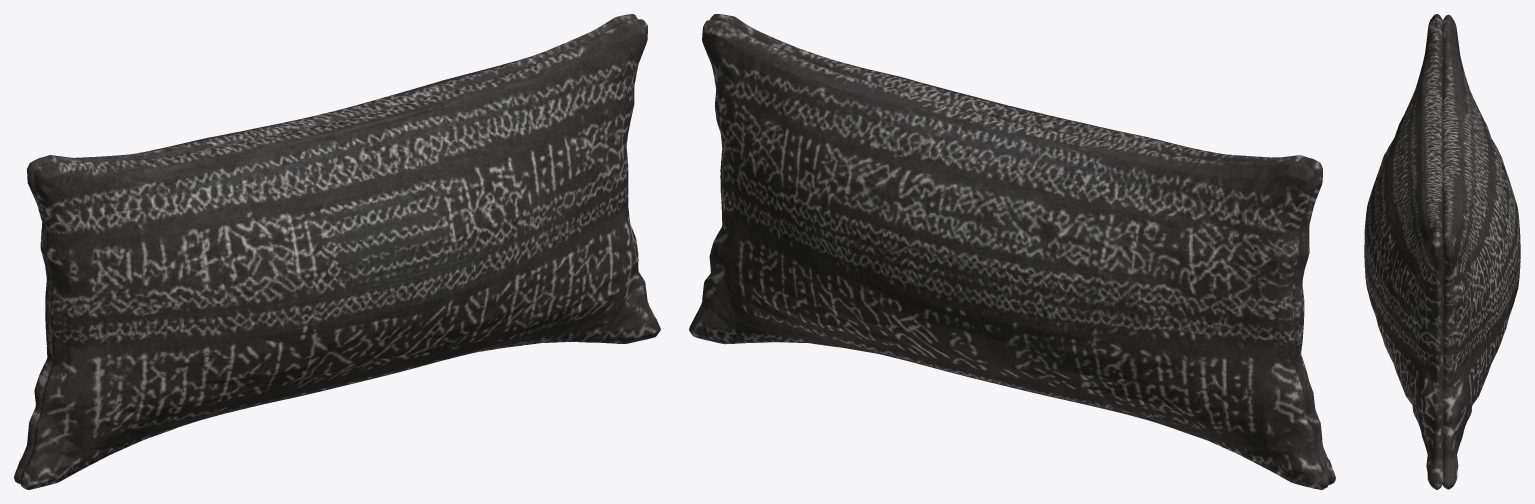
Rendered from B074VKVP98.glb.
3 views of the same model, side by side, from view 1: azimuth 30°, elevation 25°; view 2: azimuth 150°, elevation 25°; view 3: azimuth 270°, elevation 25° (orthographic). The views are drawn at different scales.
Visible parts, largest first — view 1: geometry_0; view 2: geometry_0; view 3: geometry_0.
Part boxes in pixels (<box>): geometry_0: <box>14,14,660,489</box>; geometry_0: <box>689,14,1335,489</box>; geometry_0: <box>1364,14,1520,489</box>.
Bounding box in the file's own units: 1 × 0.4838 × 0.2761.
Materials: 1 (1 with a texture image).
